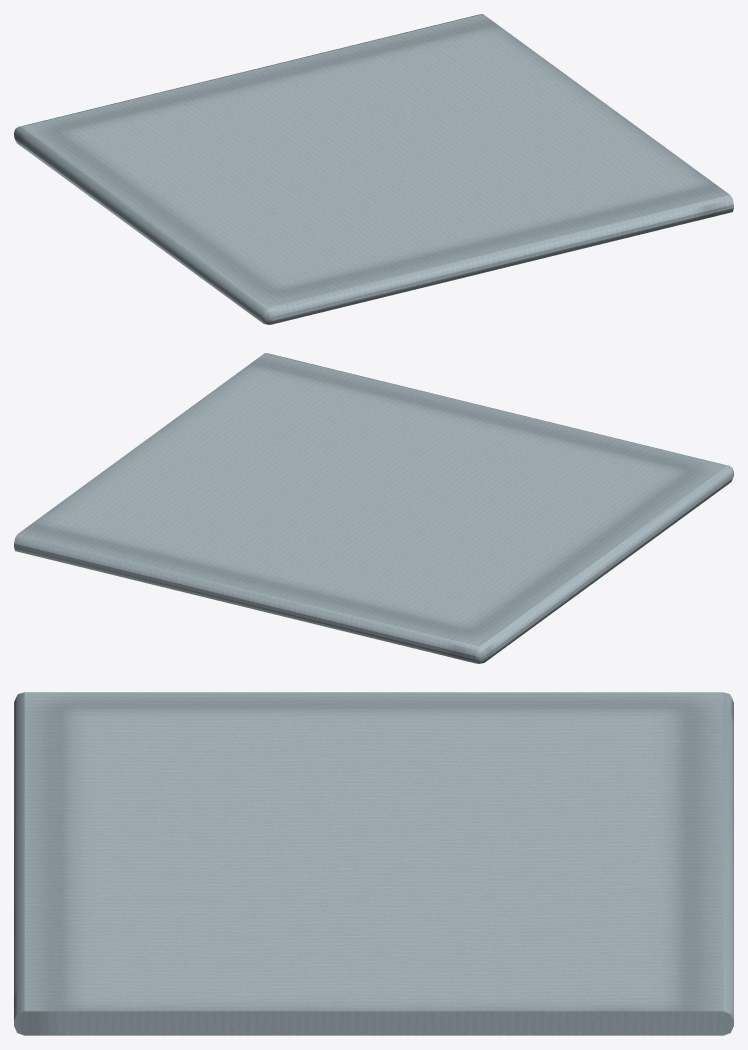
The model's file is 17-rounded-bottom-tin-rim-1.fbx.
The picture shows the model from 3 angles, top to bottom: view 1: azimuth 30°, elevation 25°; view 2: azimuth 150°, elevation 25°; view 3: azimuth 270°, elevation 25°; orthographic projection. The views are drawn at different scales.
Visible parts, largest first — view 1: rounded-bottom-tin-rim-1; view 2: rounded-bottom-tin-rim-1; view 3: rounded-bottom-tin-rim-1.
Boxes of the visible parts, bbox=[...] form: rounded-bottom-tin-rim-1: bbox=[14, 14, 733, 324]; rounded-bottom-tin-rim-1: bbox=[14, 353, 733, 663]; rounded-bottom-tin-rim-1: bbox=[14, 692, 733, 1035].
Size of the model in its own units: 8500 by 300 by 8000.
1 material, 1 textured.
